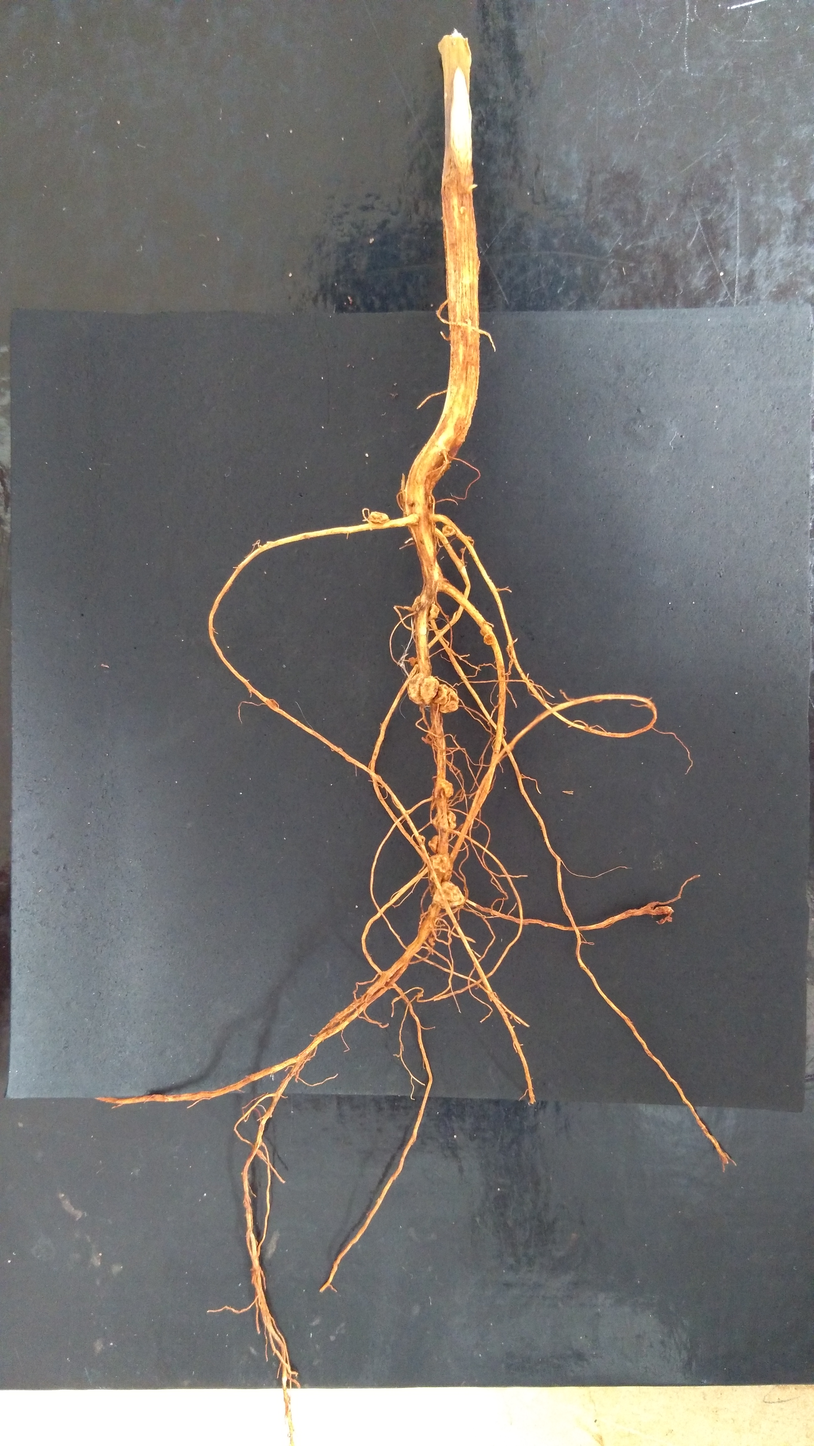nodule: (407, 672, 440, 706), (432, 880, 466, 910), (432, 683, 460, 713), (411, 596, 440, 622), (428, 852, 452, 883), (432, 810, 457, 833), (433, 779, 454, 799), (367, 511, 390, 524), (427, 835, 440, 854), (441, 524, 456, 538), (483, 633, 495, 646), (268, 698, 280, 710), (479, 626, 493, 636), (426, 935, 437, 946), (466, 535, 475, 546), (408, 657, 417, 668), (459, 547, 465, 553), (445, 615, 450, 619)
